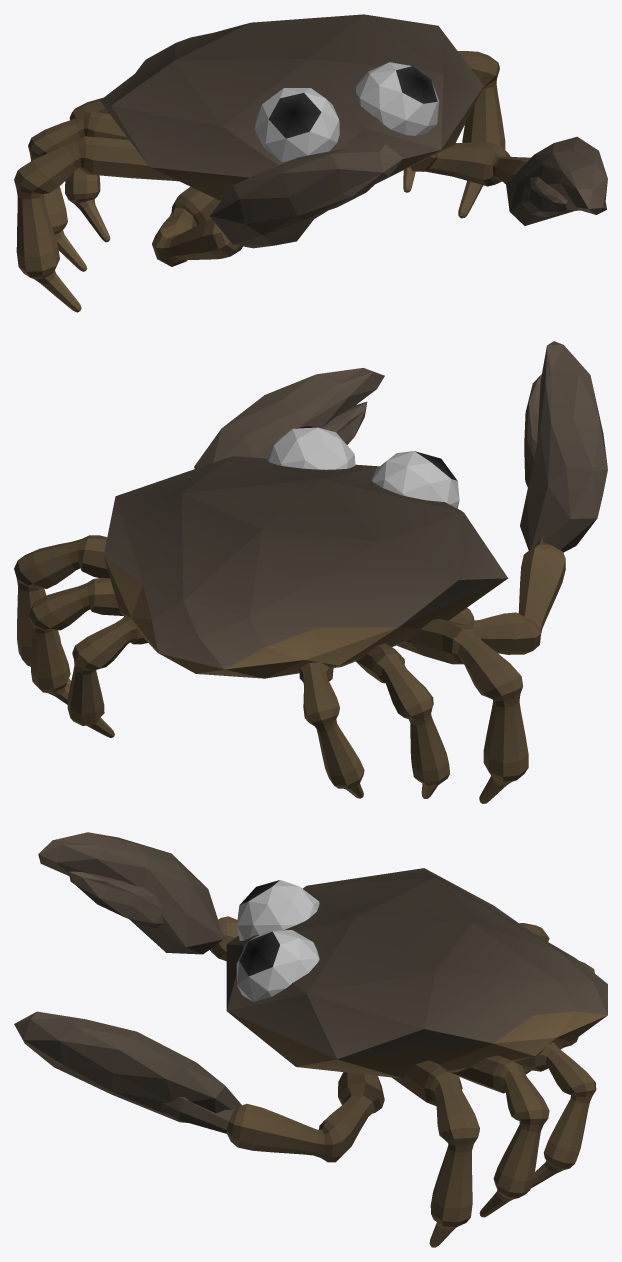
File: crab.fbx
The picture shows the model from 3 angles, top to bottom: view 1: azimuth 30°, elevation 25°; view 2: azimuth 150°, elevation 25°; view 3: azimuth 270°, elevation 25°; orthographic projection. The views are drawn at different scales.
Parts seen in each view (by area): view 1: body.014, Cube.109, Cube.110, Cube.113, eye.shaded.017, eye.shaded.018, Cube.112, Cube.106, Cube.111; view 2: body.014, Cube.109, Cube.110, Cube.113, Cube.107, Cube.112, Cube.106, Cube.111, Cube.108, eye.shaded.017, eye.shaded.018; view 3: body.014, Cube.110, Cube.109, Cube.106, Cube.107, Cube.108, eye.shaded.018, eye.shaded.017.
Boxes of the visible parts, x1=… form: body.014: x1=100, y1=14, x2=483, y2=200; Cube.109: x1=152, y1=144, x2=403, y2=266; Cube.110: x1=410, y1=136, x2=607, y2=225; Cube.113: x1=14, y1=136, x2=178, y2=312; eye.shaded.017: x1=255, y1=88, x2=339, y2=162; eye.shaded.018: x1=356, y1=62, x2=439, y2=135; Cube.112: x1=28, y1=111, x2=128, y2=271; Cube.106: x1=458, y1=51, x2=505, y2=218; Cube.111: x1=65, y1=98, x2=110, y2=242; body.014: x1=103, y1=456, x2=508, y2=678; Cube.109: x1=448, y1=341, x2=607, y2=654; Cube.110: x1=194, y1=368, x2=384, y2=468; Cube.113: x1=397, y1=619, x2=528, y2=803; Cube.107: x1=28, y1=577, x2=122, y2=704; Cube.112: x1=356, y1=643, x2=449, y2=798; Cube.106: x1=14, y1=535, x2=110, y2=687; Cube.111: x1=299, y1=662, x2=364, y2=798; Cube.108: x1=67, y1=614, x2=147, y2=737; eye.shaded.017: x1=372, y1=451, x2=459, y2=508; eye.shaded.018: x1=266, y1=426, x2=355, y2=469; body.014: x1=226, y1=868, x2=607, y2=1078; Cube.110: x1=14, y1=1011, x2=384, y2=1162; Cube.109: x1=38, y1=832, x2=238, y2=961; Cube.106: x1=391, y1=1060, x2=479, y2=1247; Cube.107: x1=452, y1=1055, x2=549, y2=1217; Cube.108: x1=515, y1=1042, x2=596, y2=1188; eye.shaded.018: x1=236, y1=930, x2=319, y2=1001; eye.shaded.017: x1=237, y1=880, x2=319, y2=940.
Bounding box in the file's own units: 184 × 99.46 × 195.
